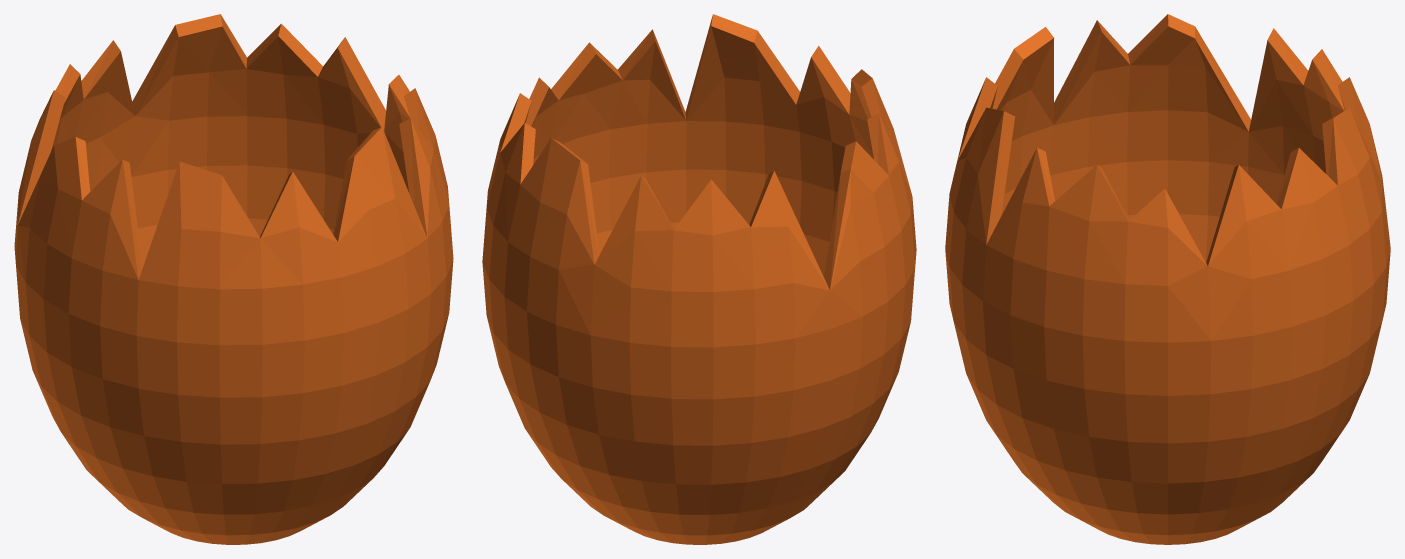
File: countryEgg.dae
The picture shows the model from 3 angles, left to right: view 1: azimuth 30°, elevation 25°; view 2: azimuth 150°, elevation 25°; view 3: azimuth 270°, elevation 25°; orthographic projection. The views are drawn at different scales.
Parts seen in each view (by area): view 1: countryEgg; view 2: countryEgg; view 3: countryEgg.
Part boxes in pixels (<box>): countryEgg: <box>14,14,453,544</box>; countryEgg: <box>482,14,916,544</box>; countryEgg: <box>945,14,1390,544</box>.
Bounding box in the file's own units: 1.28 × 1.43 × 1.28.
